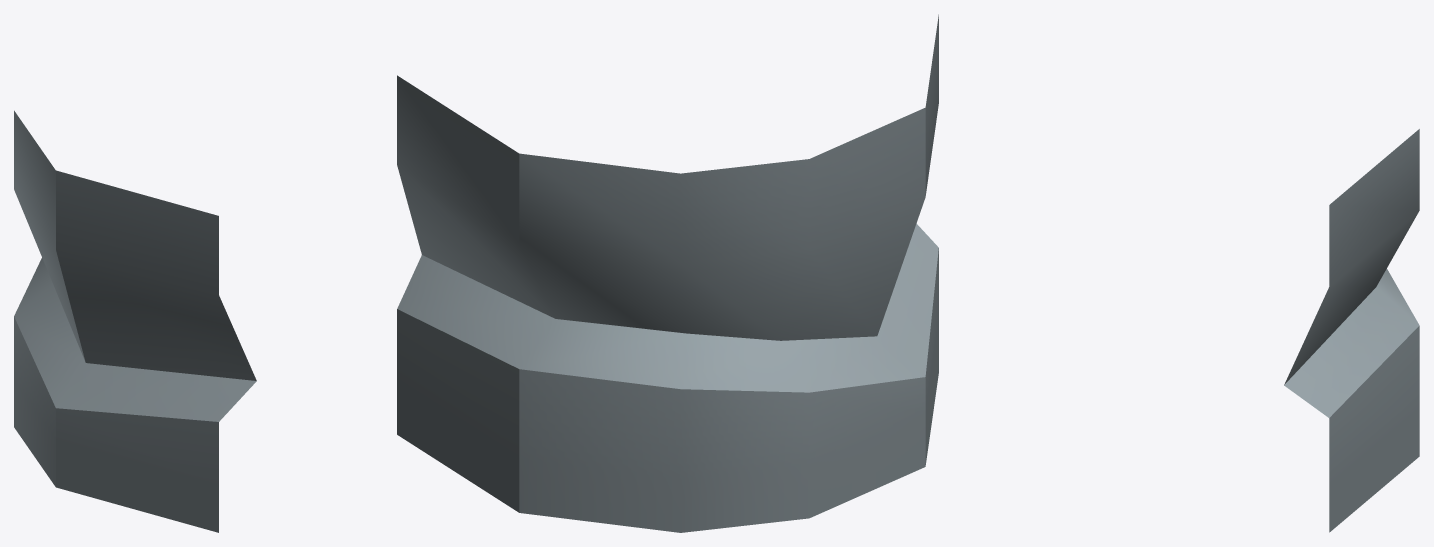
Rendered from Hill_Cliff_A_OuterCorner_Color1.gltf.
The picture shows the model from 3 angles, left to right: view 1: azimuth 30°, elevation 25°; view 2: azimuth 150°, elevation 25°; view 3: azimuth 270°, elevation 25°; orthographic projection. The views are drawn at different scales.
Visible parts, largest first — view 1: Hill_Cliff_A_OuterCorner_Color1; view 2: Hill_Cliff_A_OuterCorner_Color1; view 3: Hill_Cliff_A_OuterCorner_Color1.
Boxes of the visible parts, <box> form: Hill_Cliff_A_OuterCorner_Color1: <box>14,110,256,532</box>; Hill_Cliff_A_OuterCorner_Color1: <box>397,14,938,532</box>; Hill_Cliff_A_OuterCorner_Color1: <box>1284,129,1419,532</box>.
Bounding box in the file's own units: 2.5 × 2 × 2.5.
1 material, 1 textured.
